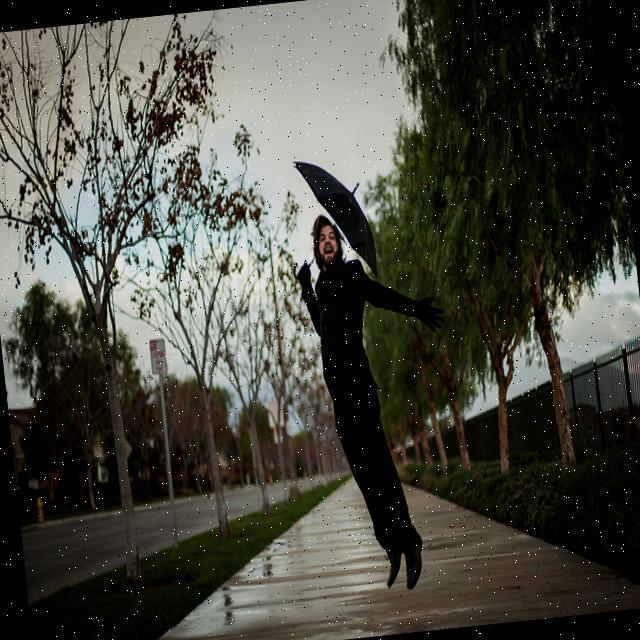fire_hydrant: (34, 494, 46, 522)
